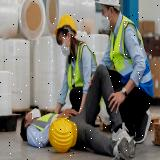Helmet: (48, 117, 78, 154), (55, 14, 77, 38)
Vest: (110, 14, 154, 99), (65, 42, 103, 112), (28, 113, 68, 132)
